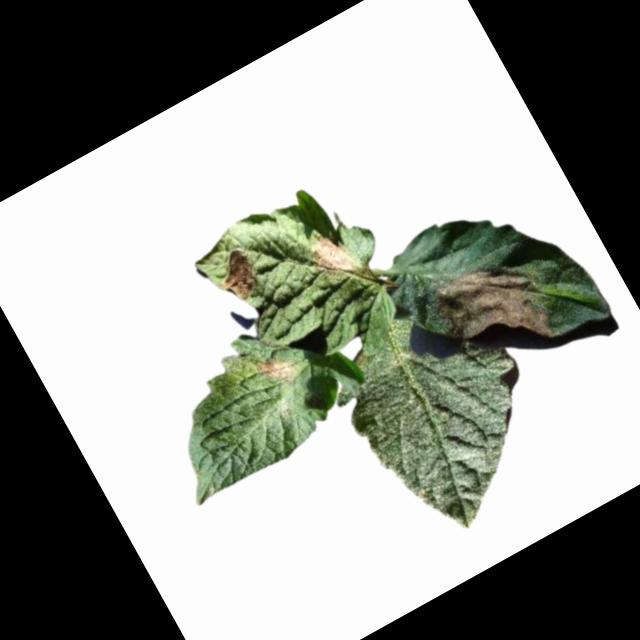Late_blight: (426, 241, 562, 380), (303, 224, 364, 288), (208, 246, 267, 308), (252, 343, 304, 397)
healthy: (316, 280, 575, 555)
